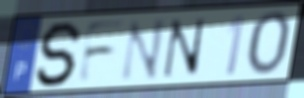1: (225, 12, 246, 78)
F: (75, 18, 129, 86)
N: (118, 17, 167, 83), (161, 17, 206, 80)
O: (245, 10, 294, 78)
S: (33, 20, 86, 89)
